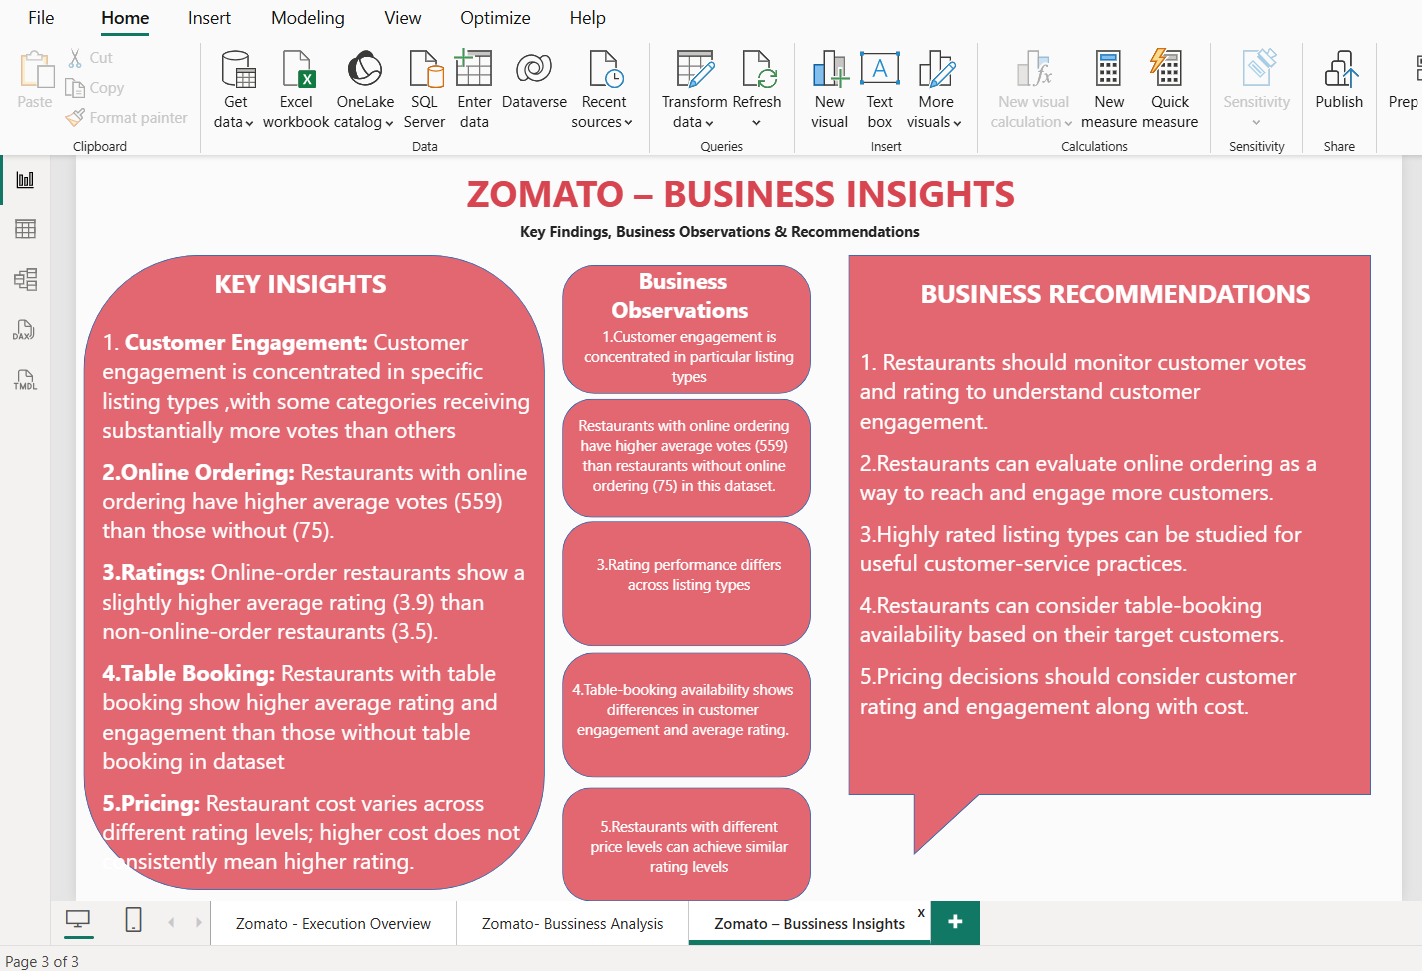

This screenshot's page, from the dashboard's own definition file:
{"tool":"powerbi","page":{"name":"Zomato – Bussiness Insights","canvas":[1920,1080],"ordinal":2},"visuals":[{"type":"textbox","box":[10.9,0,1909.2,108.6],"z":0},{"type":"textbox","box":[211.7,18.1,1502,77.8],"z":1000},{"type":"textbox","box":[325.7,95.9,1212.5,48.9],"z":2000},{"type":"shape","box":[10.9,144.8,667.8,919.3],"z":3000},{"type":"textbox","box":[38,247.9,620.7,798.1],"z":4000},{"type":"textbox","box":[81.4,159.3,486.8,88.7],"z":5000},{"type":"shape","box":[1118.4,144.8,756.4,868.6],"z":6000},{"type":"shape","box":[704,720.2,360.1,181],"z":7000},{"type":"shape","box":[704,159.3,360.1,186.4],"z":8000},{"type":"shape","box":[704,352.9,360.1,171.9],"z":9000},{"type":"shape","box":[704,530.2,360.1,181],"z":10000},{"type":"shape","box":[704,915.7,360.1,164.7],"z":11000},{"type":"textbox","box":[734.7,247.9,305.8,97.7],"z":12000},{"type":"textbox","box":[717.7,376.4,323.7,150.6],"z":13000},{"type":"textbox","box":[734.7,577.3,305.8,115.8],"z":14000},{"type":"textbox","box":[716.6,758.2,323.9,114],"z":15000},{"type":"textbox","box":[734.7,957.3,305.8,106.8],"z":16000},{"type":"textbox","box":[1134.7,173.7,740.2,79.6],"z":17000},{"type":"textbox","box":[1134.7,276.9,662.3,595.4],"z":18000},{"type":"textbox","box":[716.6,159.3,323.9,88.7],"z":19000}]}

Visuals, with their boxes on the page's 1920x1080 design canvas (x1, y1, x2, y2). These are canvas units, not pixel positions in the 1422x971 screenshot, which may show the page scaled, cropped or inside an application window:
textbox: crop(11, 0, 1920, 109)
textbox: crop(212, 18, 1714, 96)
textbox: crop(326, 96, 1538, 145)
shape: crop(11, 145, 679, 1064)
textbox: crop(38, 248, 659, 1046)
textbox: crop(81, 159, 568, 248)
shape: crop(1118, 145, 1875, 1013)
shape: crop(704, 720, 1064, 901)
shape: crop(704, 159, 1064, 346)
shape: crop(704, 353, 1064, 525)
shape: crop(704, 530, 1064, 711)
shape: crop(704, 916, 1064, 1080)
textbox: crop(735, 248, 1040, 346)
textbox: crop(718, 376, 1041, 527)
textbox: crop(735, 577, 1040, 693)
textbox: crop(717, 758, 1040, 872)
textbox: crop(735, 957, 1040, 1064)
textbox: crop(1135, 174, 1875, 253)
textbox: crop(1135, 277, 1797, 872)
textbox: crop(717, 159, 1040, 248)
